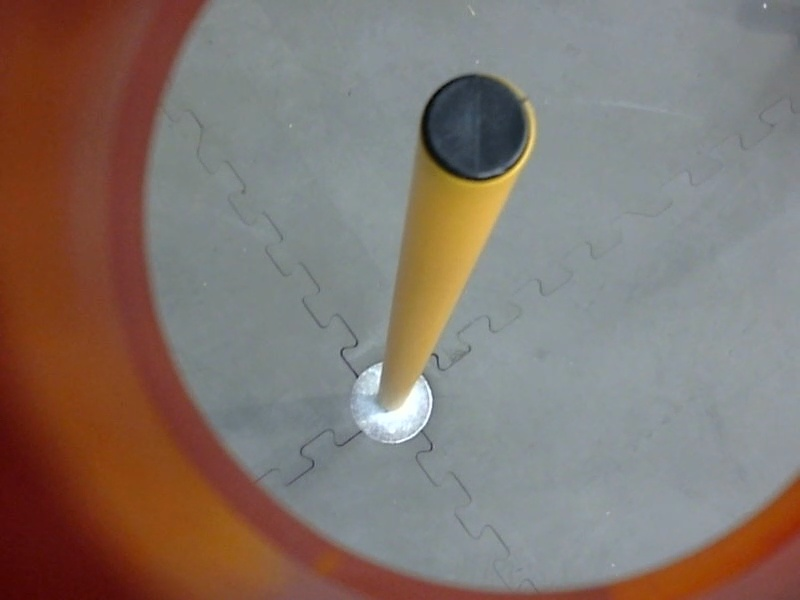tip: (410, 66, 556, 192)
